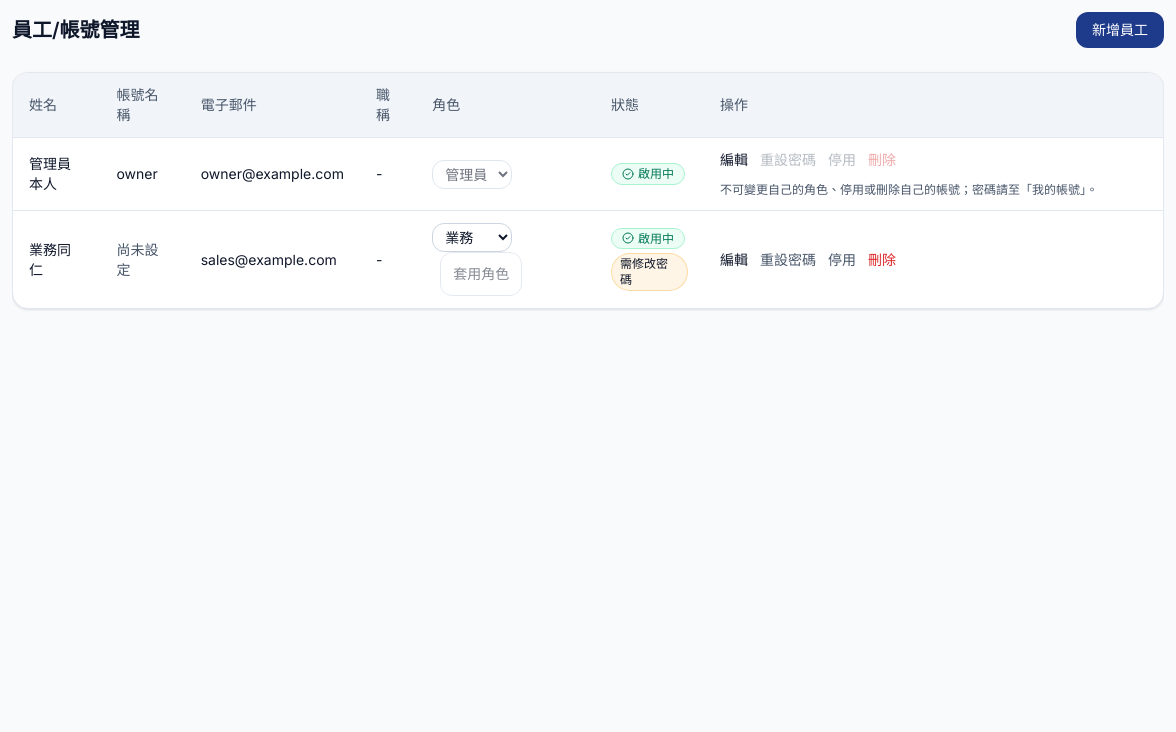
Test: UserList presentation › removes edit control-position teaching without changing the edit action
Expected: the text "業務同仁" is shown, [29,240,71,278]
Click the button "編輯" in the row of "業務同仁" at x=734, y=260, box [720,250,748,270]
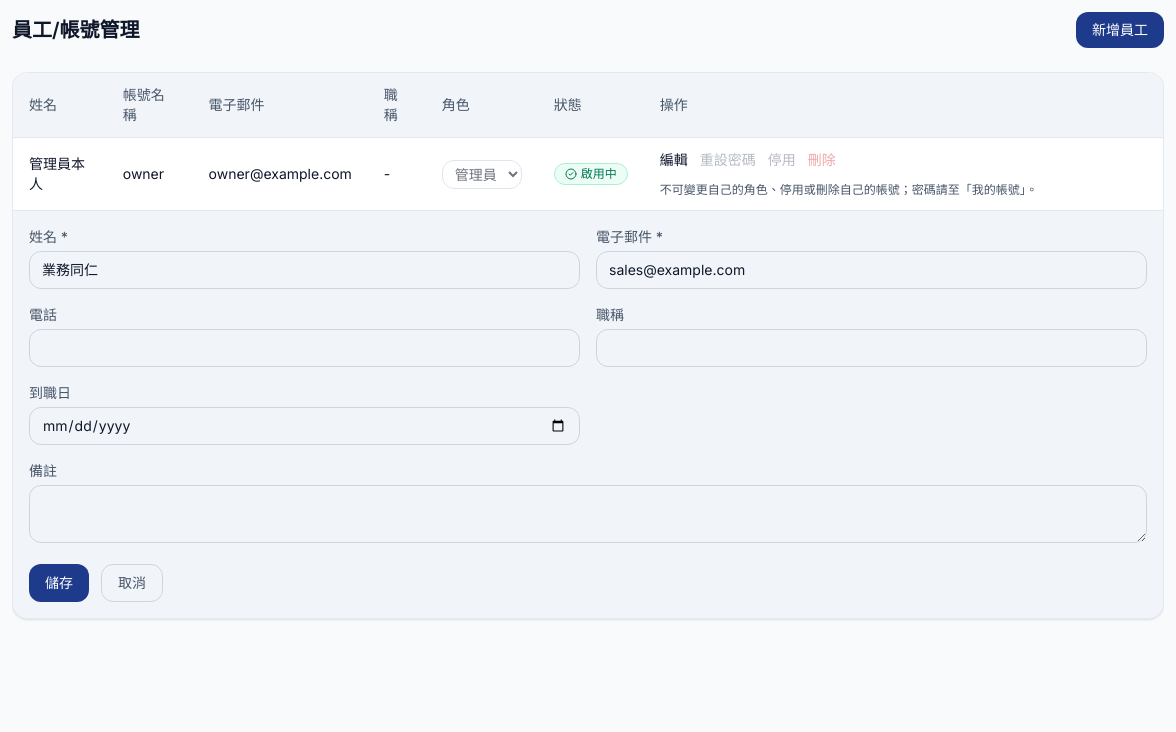
Now the button "儲存" is shown, box [29,564,89,602]
